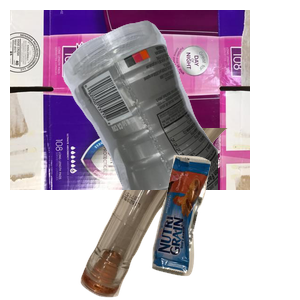cardboard: (10, 10, 250, 190)
glass: (78, 128, 298, 300)
plastic: (60, 18, 300, 198)
trash: (149, 152, 300, 300)
